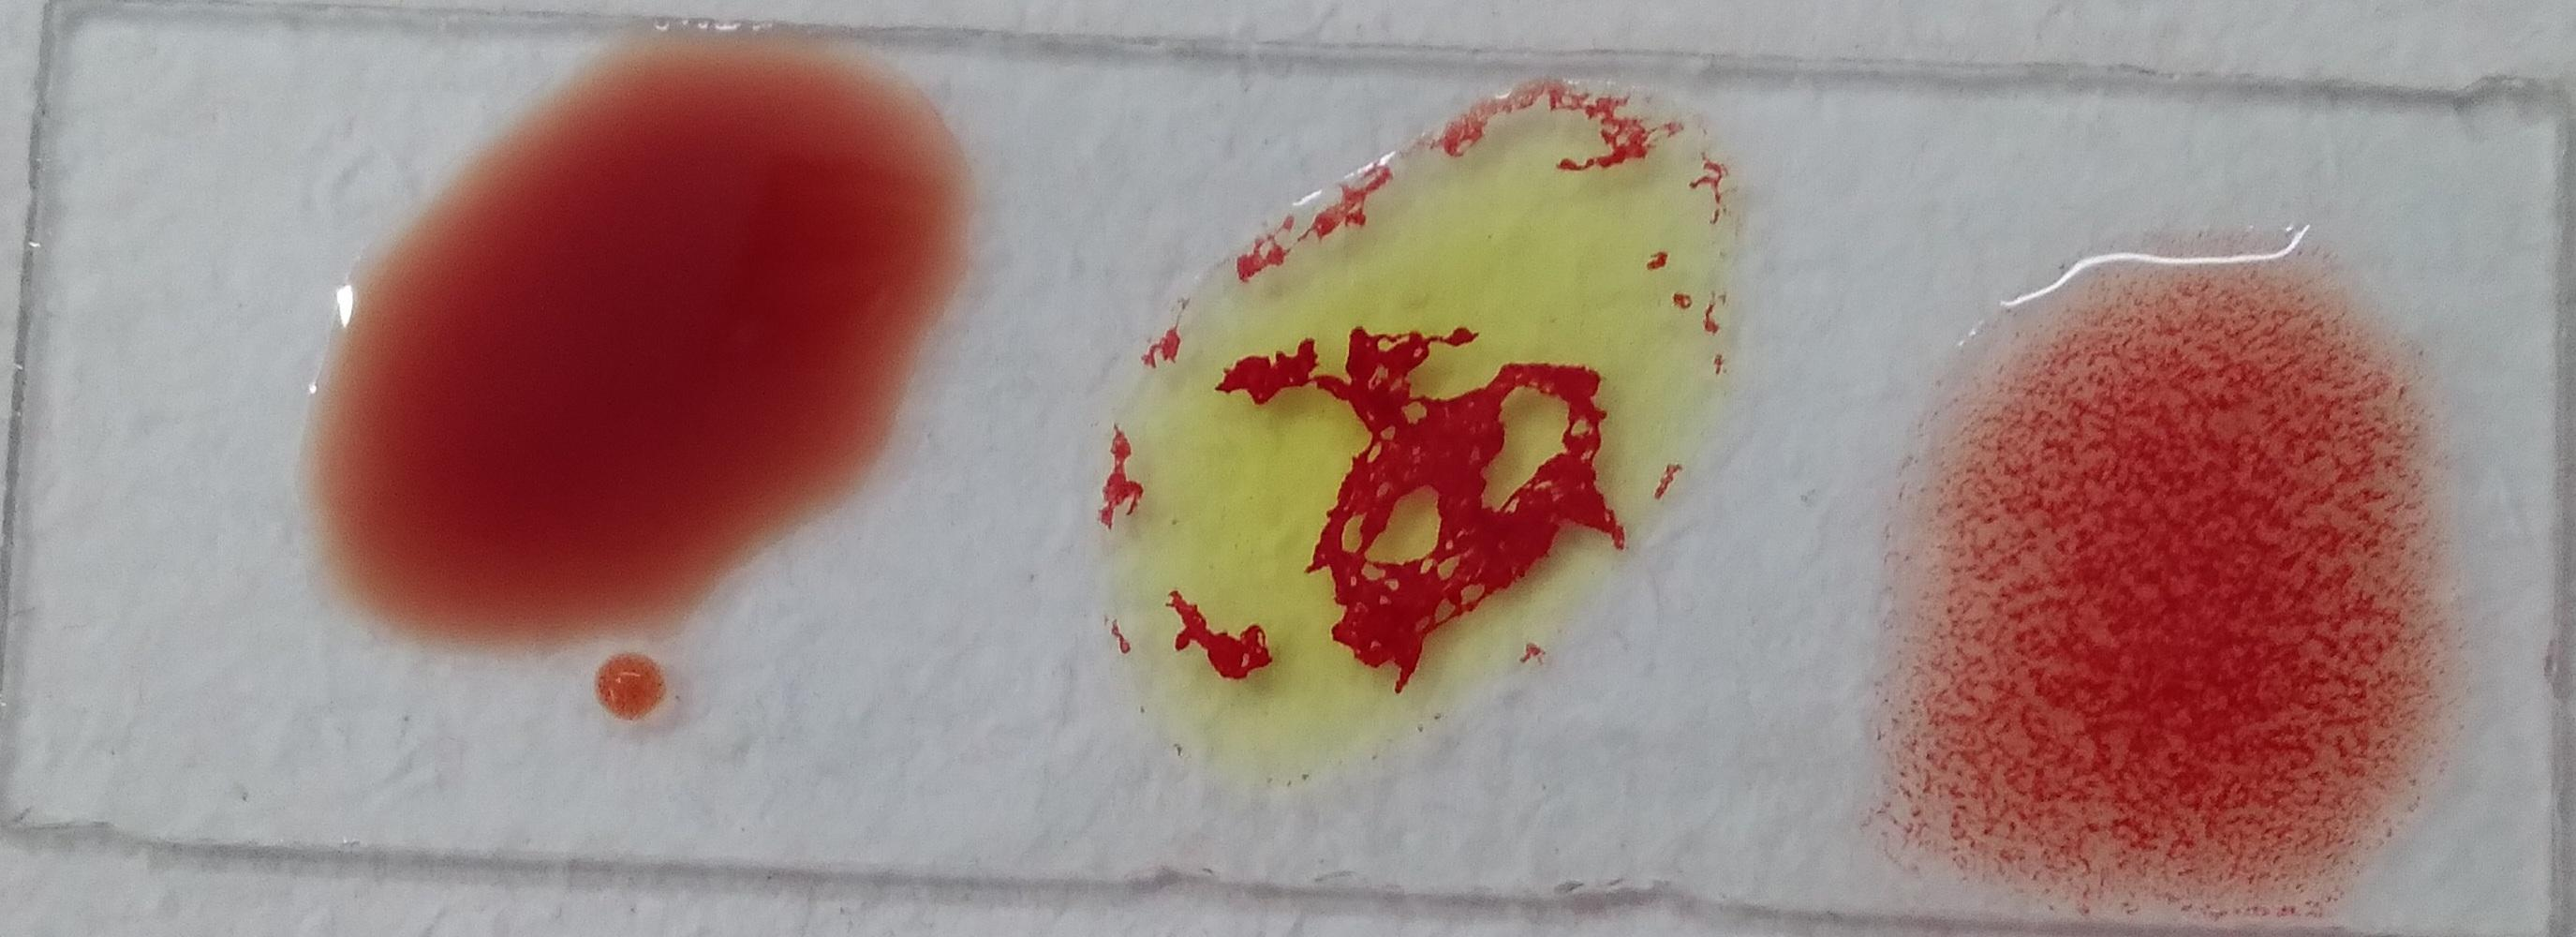B: (853, 159, 1474, 850)
D: (143, 15, 659, 695)
